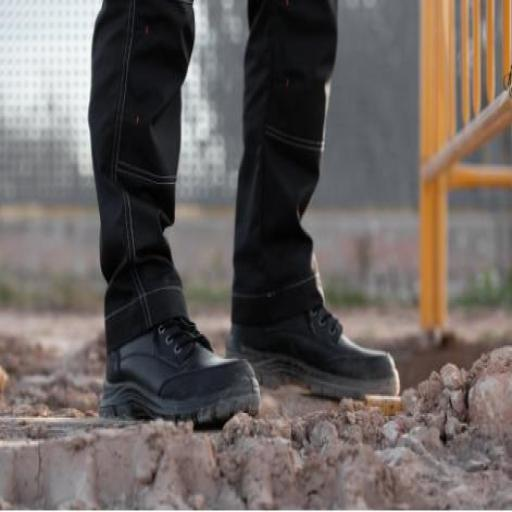safety_boots: (94, 307, 270, 426), (265, 299, 406, 404)
